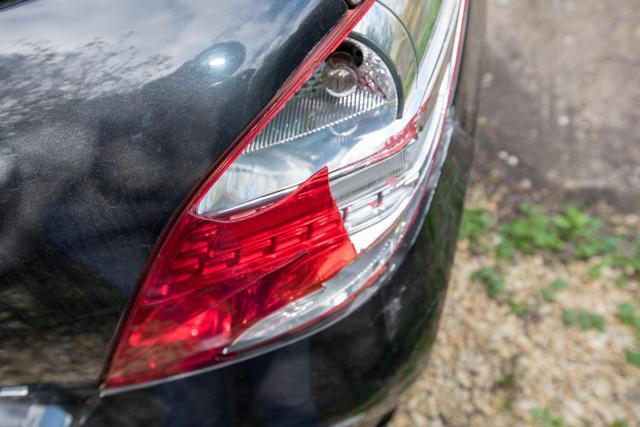lamp broken: (100, 0, 470, 395)
